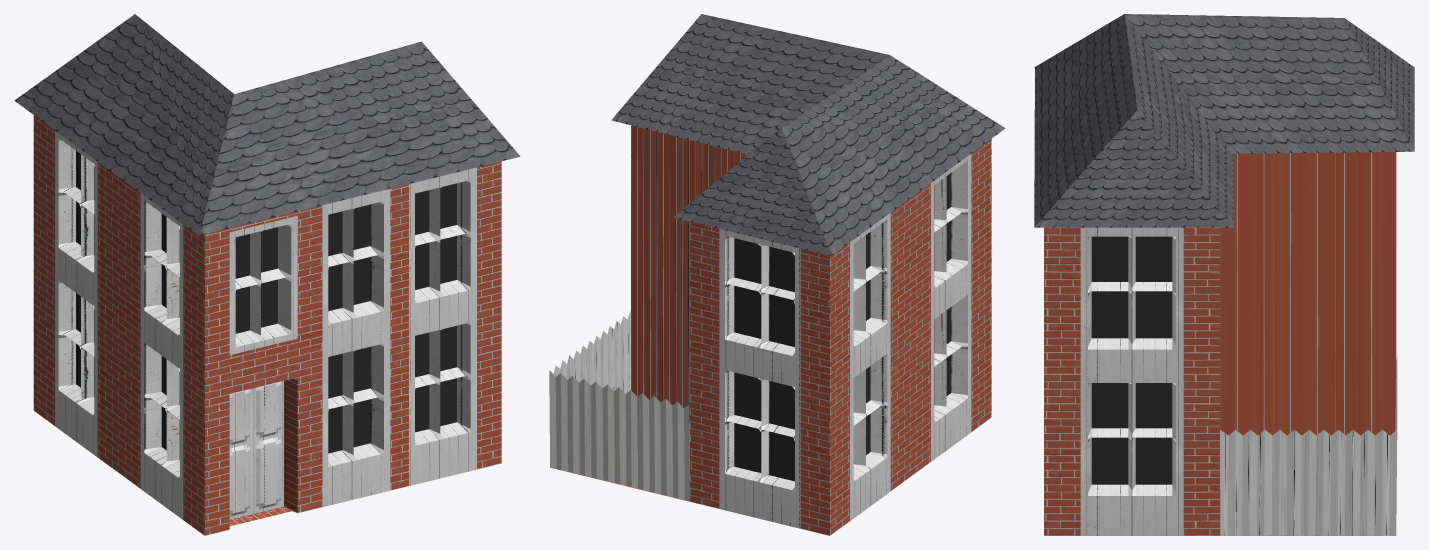
The model's file is NewHouse.gltf.
3 views of the same model, side by side, from view 1: azimuth 30°, elevation 25°; view 2: azimuth 150°, elevation 25°; view 3: azimuth 270°, elevation 25° (orthographic). The views are drawn at different scales.
Parts seen in each view (by area): view 1: Cube, Cube.002; view 2: Cube, Cube.002; view 3: Cube, Cube.002.
Part boxes in pixels (x1=…): Cube: x1=33, y1=115, x2=501, y2=535; Cube.002: x1=14, y1=14, x2=520, y2=235; Cube: x1=549, y1=125, x2=991, y2=535; Cube.002: x1=611, y1=14, x2=1005, y2=255; Cube: x1=1044, y1=152, x2=1397, y2=535; Cube.002: x1=1034, y1=14, x2=1414, y2=227.
Bounding box in the file's own units: 5.42 × 6.4 × 5.4.
Materials: 4 (3 with a texture image).
